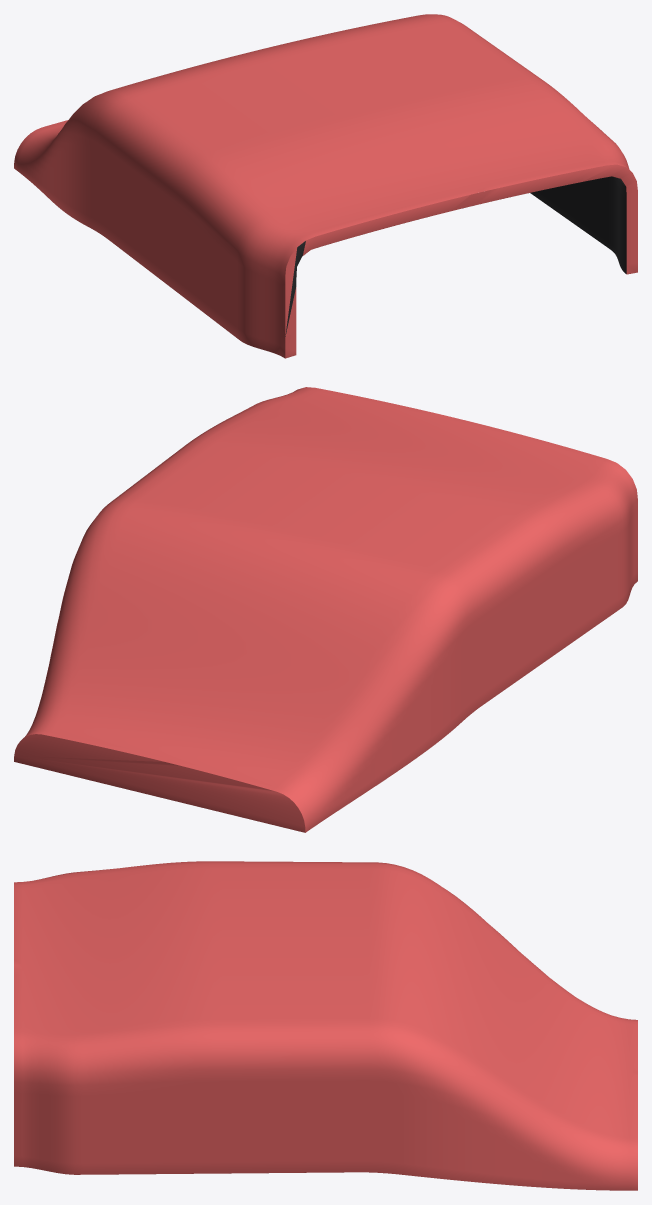
Rendered from hood_scoop.fbx.
The picture shows the model from 3 angles, top to bottom: view 1: azimuth 30°, elevation 25°; view 2: azimuth 150°, elevation 25°; view 3: azimuth 270°, elevation 25°; orthographic projection. The views are drawn at different scales.
Parts seen in each view (by area): view 1: HoodScoop; view 2: HoodScoop; view 3: HoodScoop.
Part boxes in pixels (<box>): HoodScoop: <box>14,14,637,358</box>; HoodScoop: <box>14,387,637,832</box>; HoodScoop: <box>14,861,637,1190</box>.
Bounding box in the file's own units: 21.89 × 9.42 × 30.
